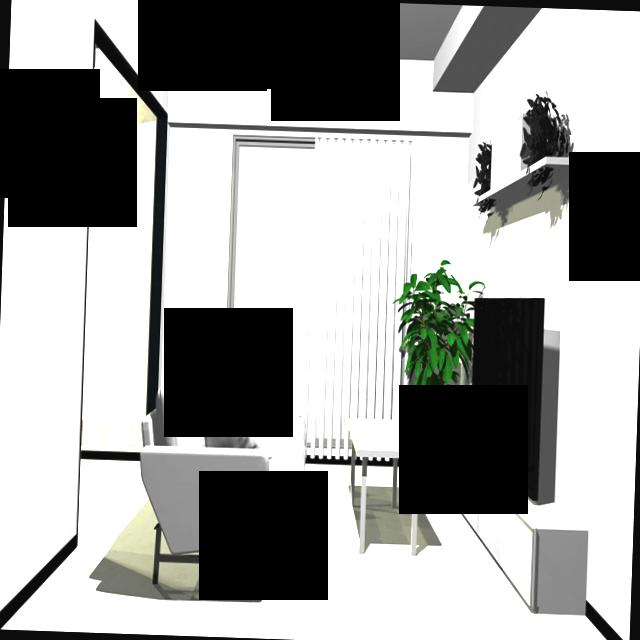white sofa: (119, 350, 324, 585)
